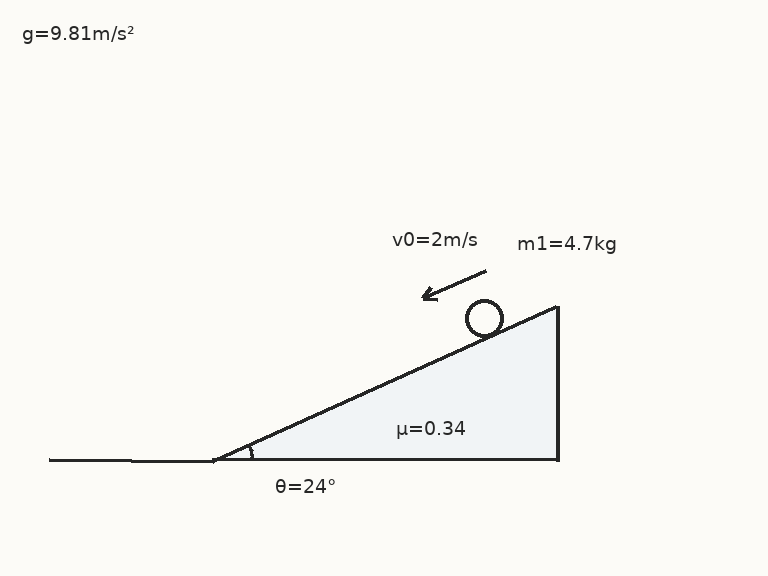ball: (463, 297, 505, 339)
ramp: (210, 304, 559, 462)
